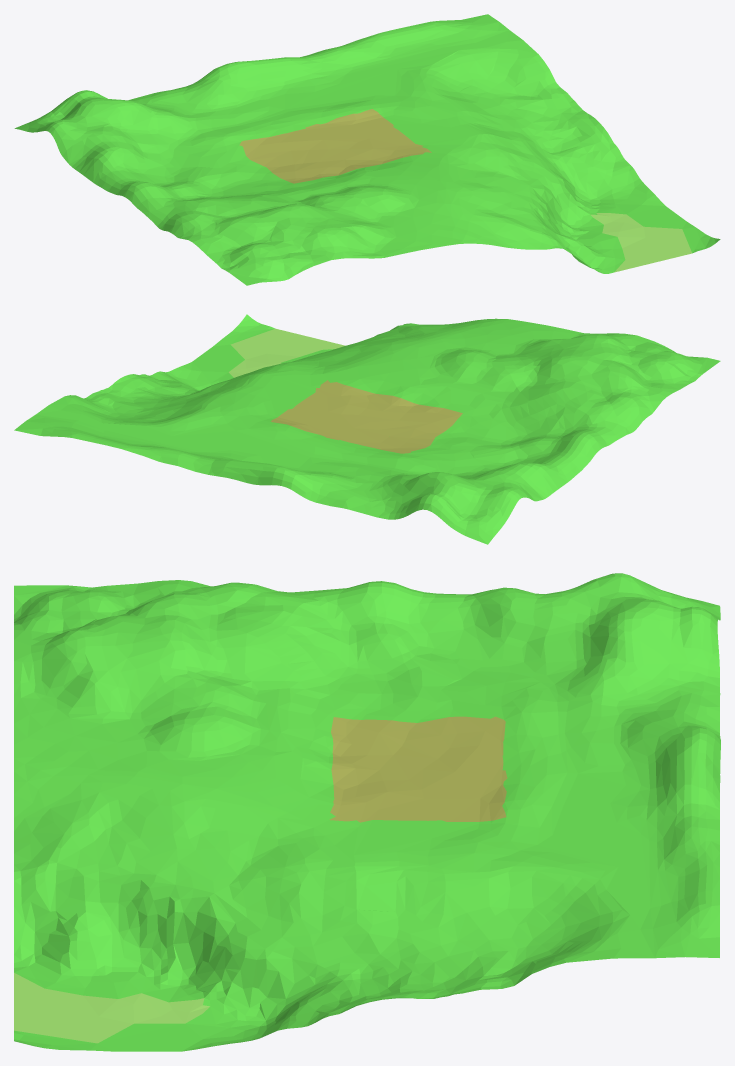
File: MapComplete.fbx
3 views of the same model, one above another, from view 1: azimuth 30°, elevation 25°; view 2: azimuth 150°, elevation 25°; view 3: azimuth 270°, elevation 25° (orthographic). The views are drawn at different scales.
Visible parts, largest first — view 1: Plane; view 2: Plane; view 3: Plane.
Part boxes in pixels (left/top/right/bottom): Plane: left=14, top=14, right=720, bottom=285; Plane: left=14, top=314, right=720, bottom=544; Plane: left=14, top=573, right=720, bottom=1051.
Bounding box in the file's own units: 75402 × 14634 × 64131.
